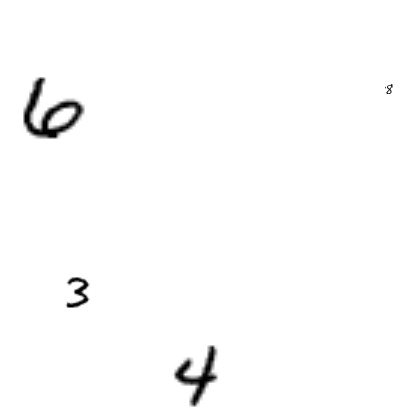0: (155, 118, 211, 174)
2: (64, 174, 86, 196)
6: (4, 84, 88, 168), (293, 192, 349, 248)
7: (50, 223, 162, 335)
Sneaker: (3, 337, 45, 379), (194, 80, 208, 94)
